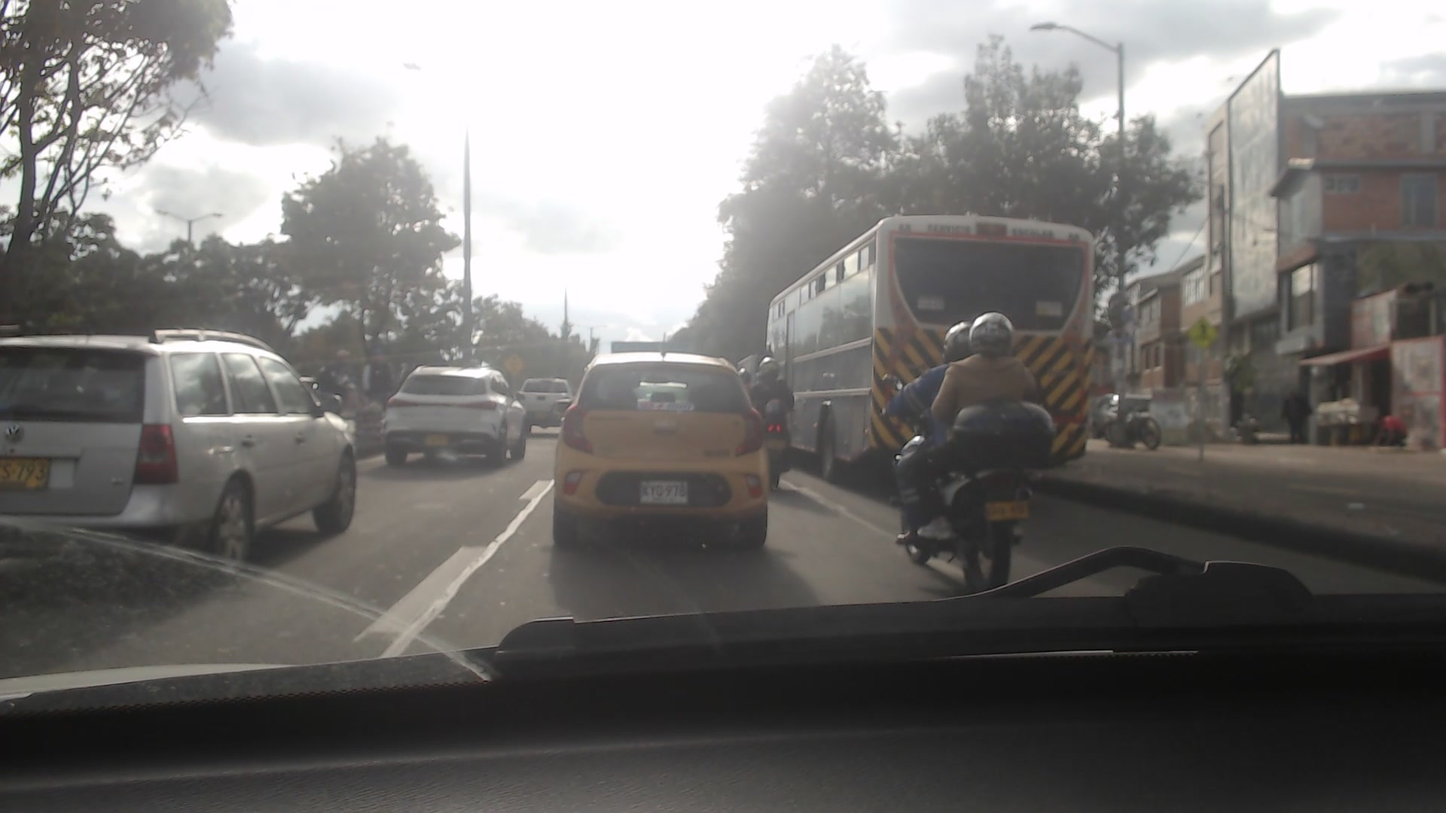bus: (756, 217, 1095, 476)
car: (0, 329, 360, 569), (559, 355, 771, 545), (386, 361, 533, 459), (512, 374, 581, 438)
motorcycle: (874, 407, 1070, 596)
person: (941, 310, 1036, 442), (750, 352, 789, 425)
